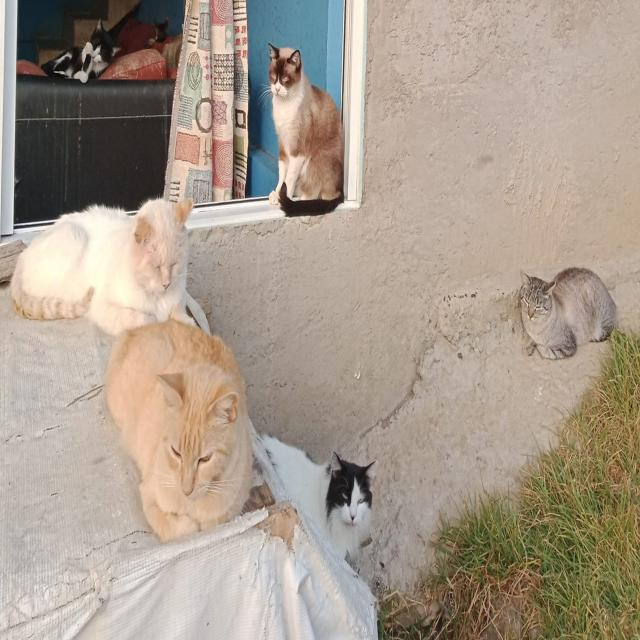cat: (105, 321, 252, 542), (11, 199, 195, 335), (262, 435, 376, 559), (269, 45, 344, 216), (520, 268, 618, 359), (42, 21, 119, 82), (118, 19, 169, 55), (114, 8, 136, 34)
